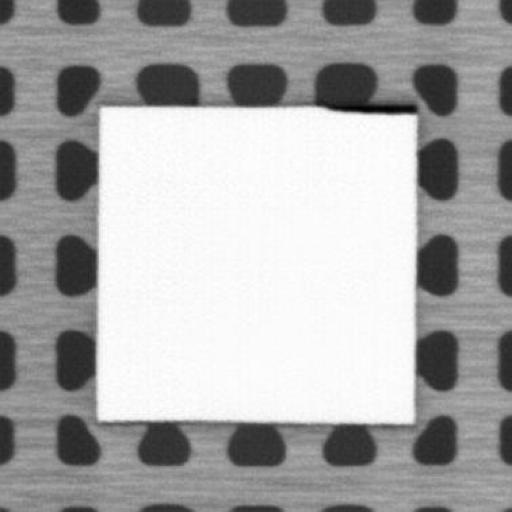DIE_BROKEN: (320, 98, 417, 114)
